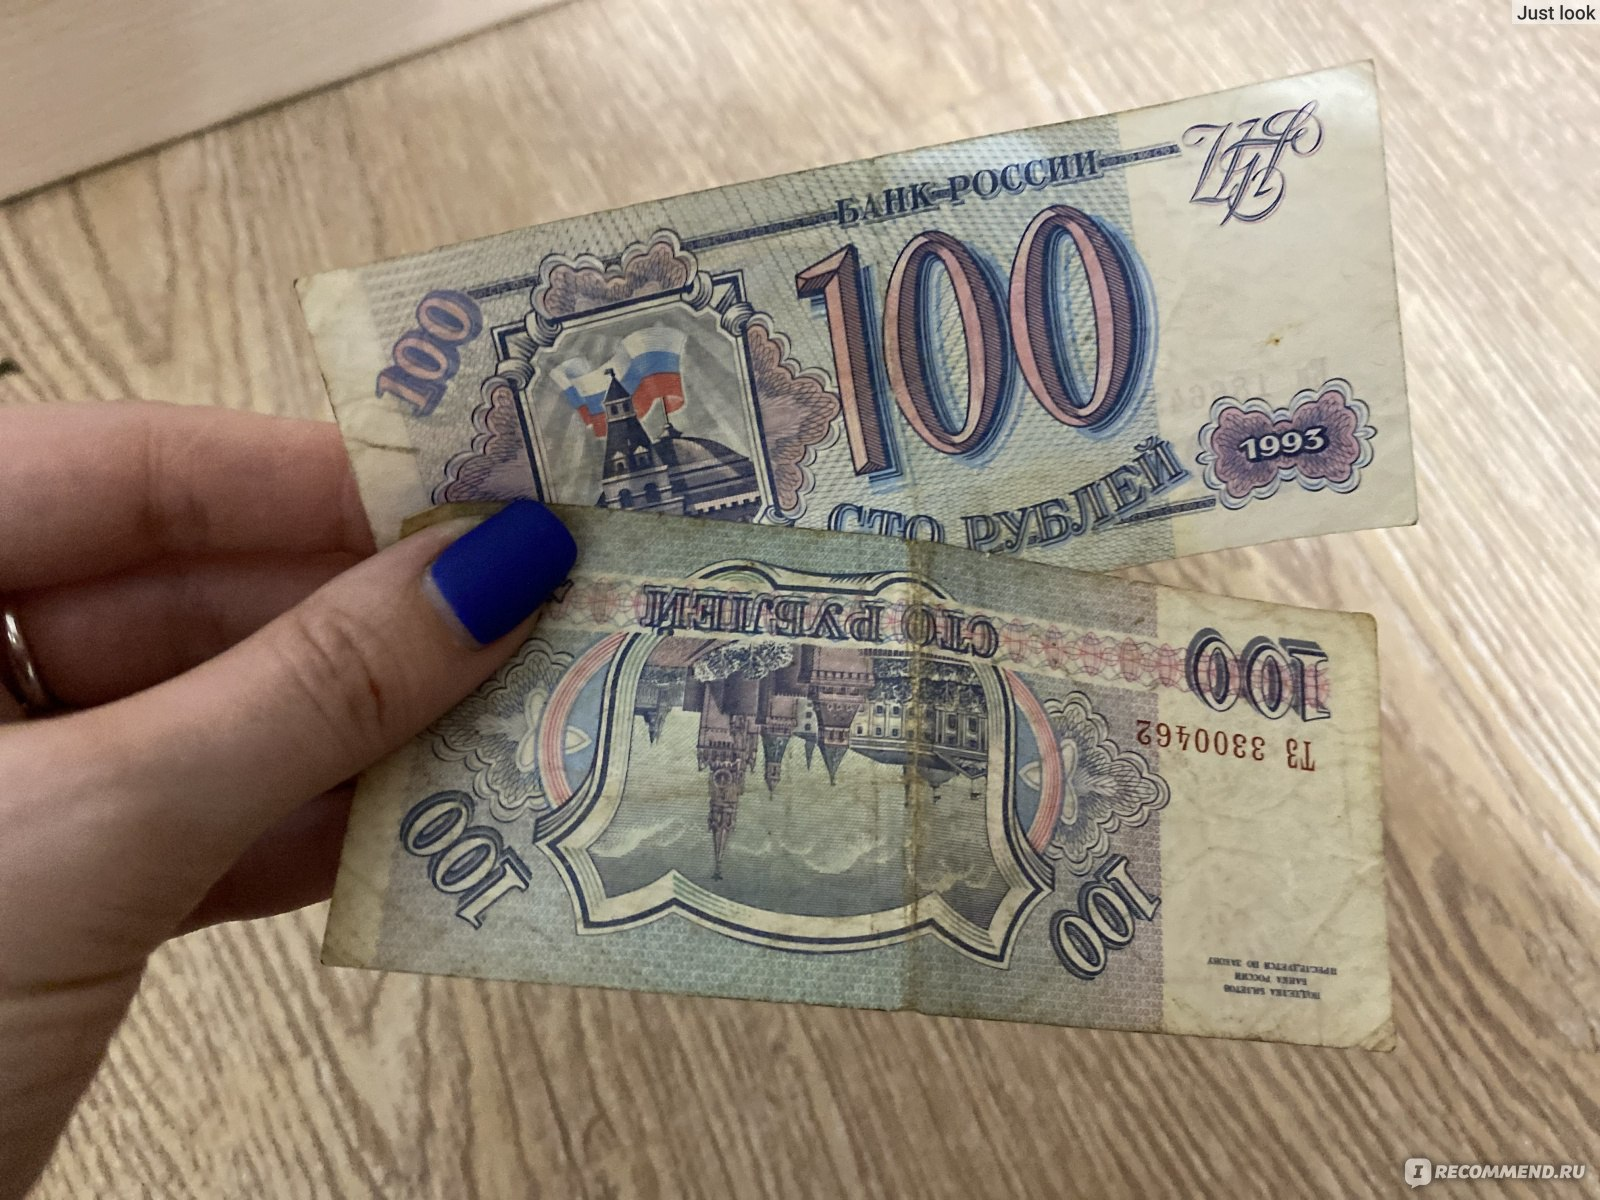cash: (323, 500, 1390, 1053), (289, 61, 1416, 570)
